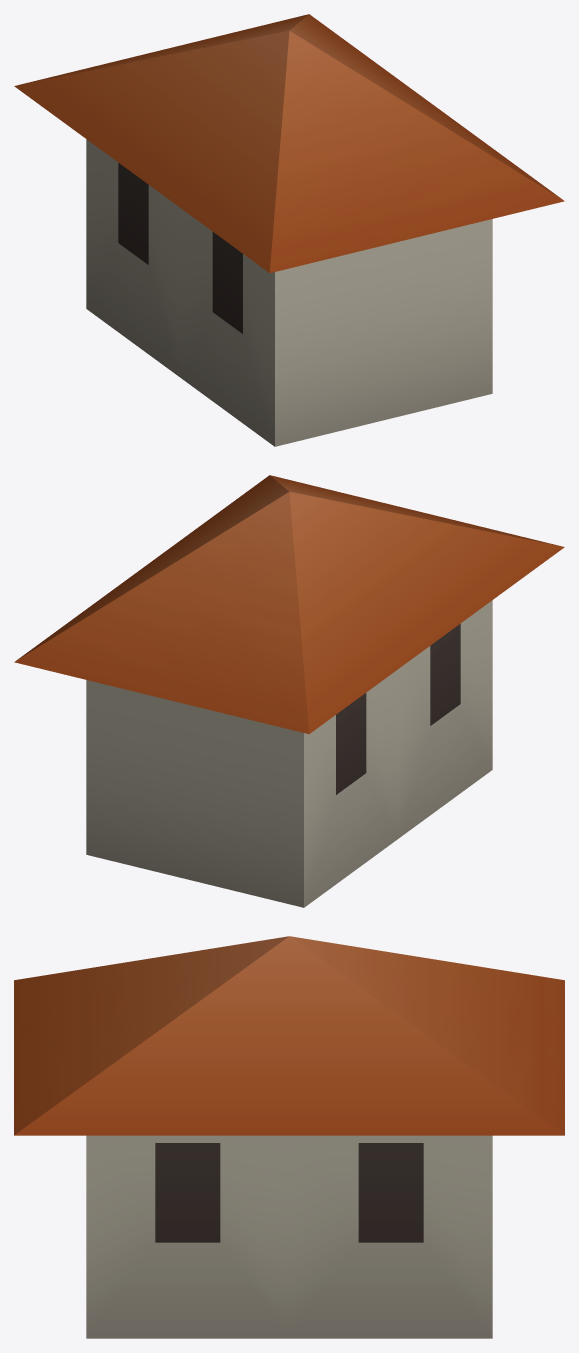
The model's file is SM_VistaHouse_02.fbx.
3 views of the same model, one above another, from view 1: azimuth 30°, elevation 25°; view 2: azimuth 150°, elevation 25°; view 3: azimuth 270°, elevation 25° (orthographic). The views are drawn at different scales.
Visible parts, largest first — view 1: SM_VistaHouse_02; view 2: SM_VistaHouse_02; view 3: SM_VistaHouse_02.
Part boxes in pixels (left/top/right/bottom): SM_VistaHouse_02: left=14, top=14, right=564, bottom=446; SM_VistaHouse_02: left=14, top=475, right=564, bottom=907; SM_VistaHouse_02: left=14, top=936, right=564, bottom=1338.
Bounding box in the file's own units: 2.71 × 2.81 × 4.07.
